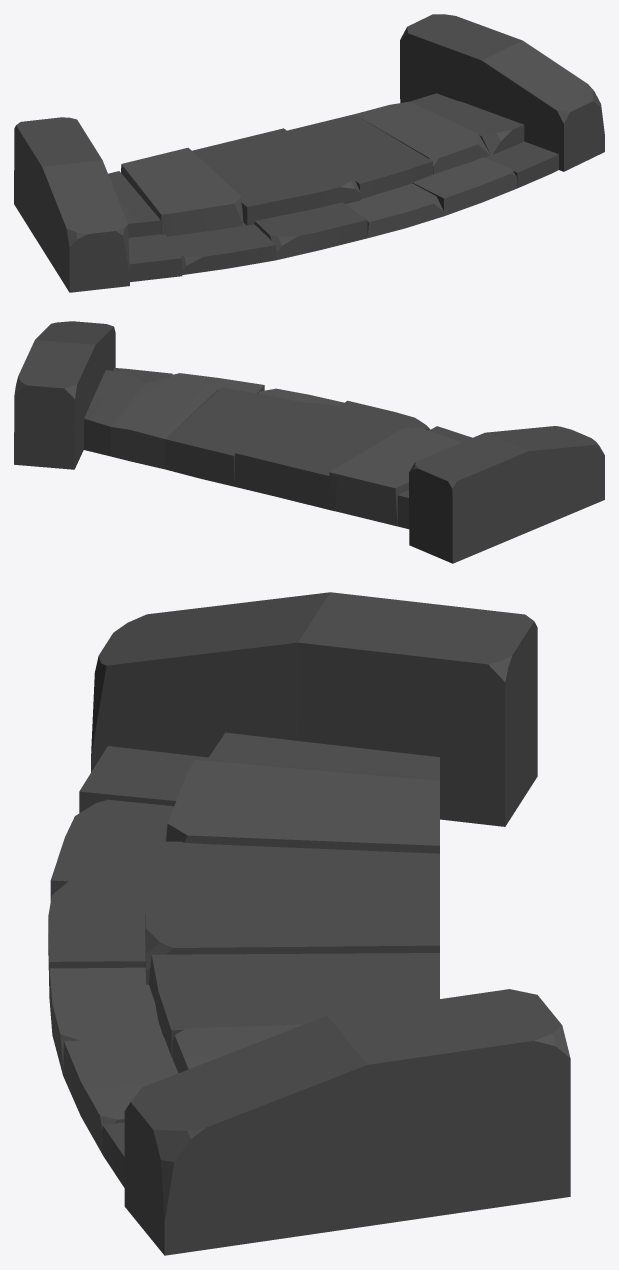
The model's file is Stairs_01.fbx.
3 views of the same model, one above another, from view 1: azimuth 30°, elevation 25°; view 2: azimuth 150°, elevation 25°; view 3: azimuth 270°, elevation 25° (orthographic). The views are drawn at different scales.
Visible parts, largest first — view 1: Stairs_01_LOD0; view 2: Stairs_01_LOD0; view 3: Stairs_01_LOD0.
Part boxes in pixels (box(x1,y1,x2,y2)): Stairs_01_LOD0: box(14, 14, 604, 292); Stairs_01_LOD0: box(14, 321, 604, 563); Stairs_01_LOD0: box(48, 592, 570, 1255).
Size of what is drawn, in the model's own units: 589 by 86.13 by 247.
